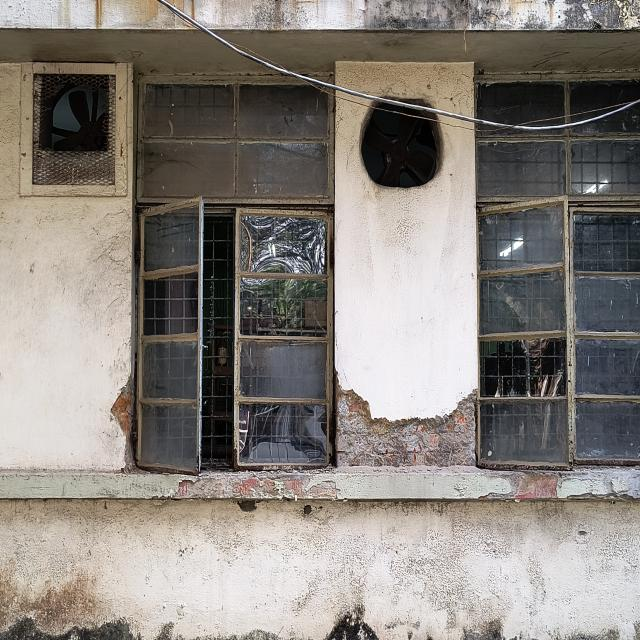peeling: (335, 383, 476, 467)
